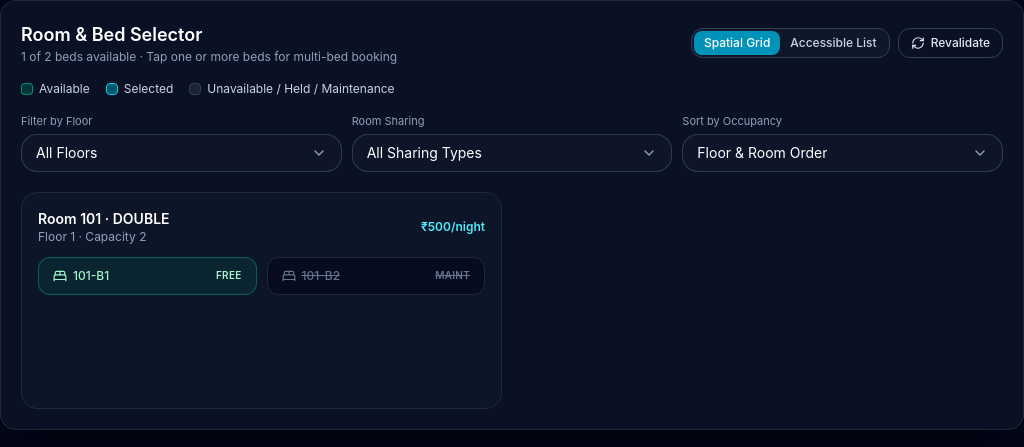
Test case: Spatial Stay Frontend › supports interactive bed selection and switches to accessible list view
Expected: the button with aria-label "Bed 101-B2 in Room 101 - Unavailable" is disabled, [266,256,485,294]
Click the button with aria-label "Bed 101-B1 in Room 101 - Available". click: (147, 276)
box: [38,256,256,294]
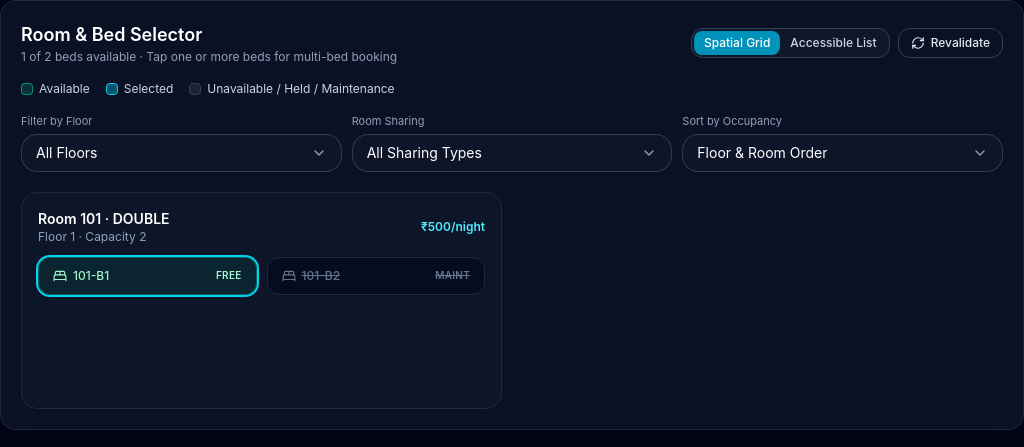
Click the button "Accessible List". click: (833, 43)
box: [780,31,887,55]
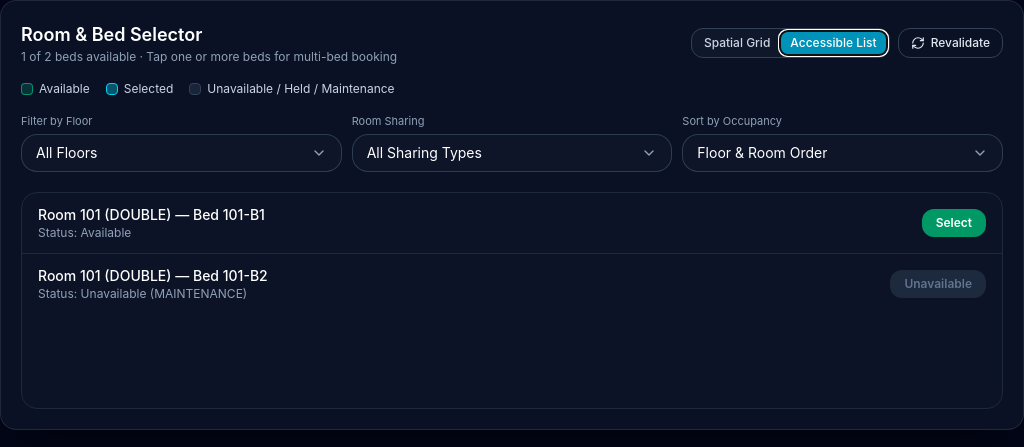
Now the text "Room 101 (DOUBLE) — Bed 101-B1" is shown, box [38,204,265,224]
